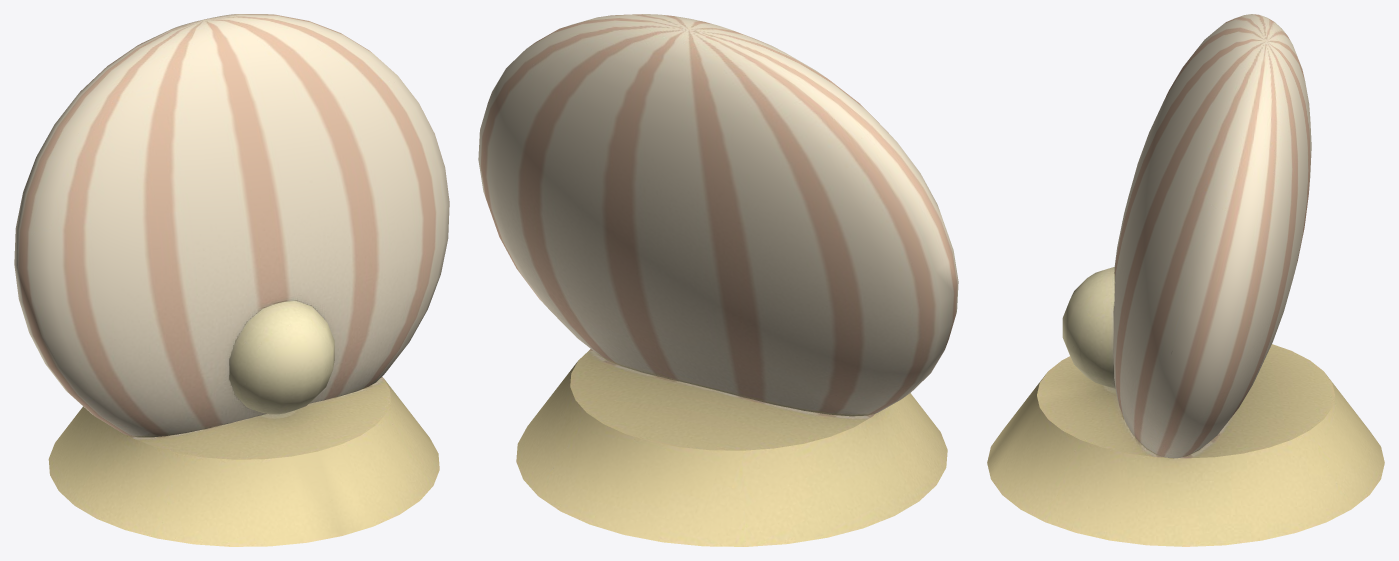
File: shell_lamp.glb
3 views of the same model, side by side, from view 1: azimuth 30°, elevation 25°; view 2: azimuth 150°, elevation 25°; view 3: azimuth 270°, elevation 25° (orthographic). The views are drawn at different scales.
Visible parts, largest first — view 1: shell_lamp; view 2: shell_lamp; view 3: shell_lamp.
Boxes of the visible parts, bbox=[...] form: shell_lamp: bbox=[14, 14, 449, 546]; shell_lamp: bbox=[478, 14, 958, 546]; shell_lamp: bbox=[987, 14, 1384, 546].
Size of the model in its own units: 0.3986 by 0.3749 by 0.32.
Materials: 1 (1 with a texture image).
